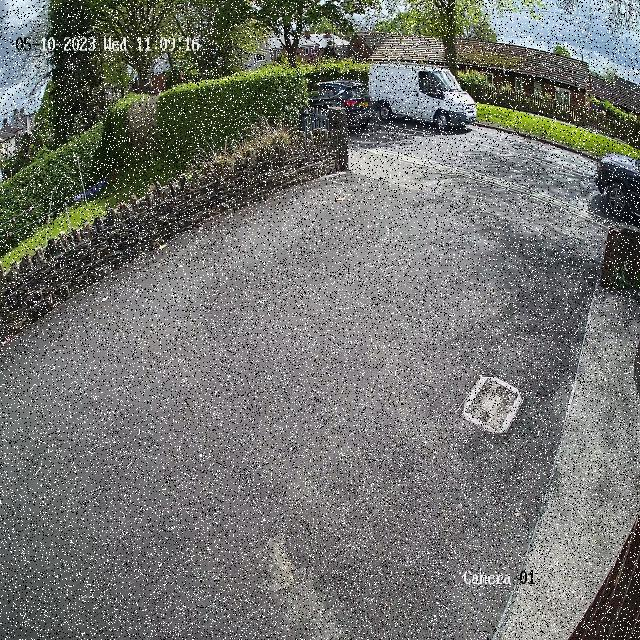vehicle: (364, 56, 484, 138), (304, 75, 380, 133)
